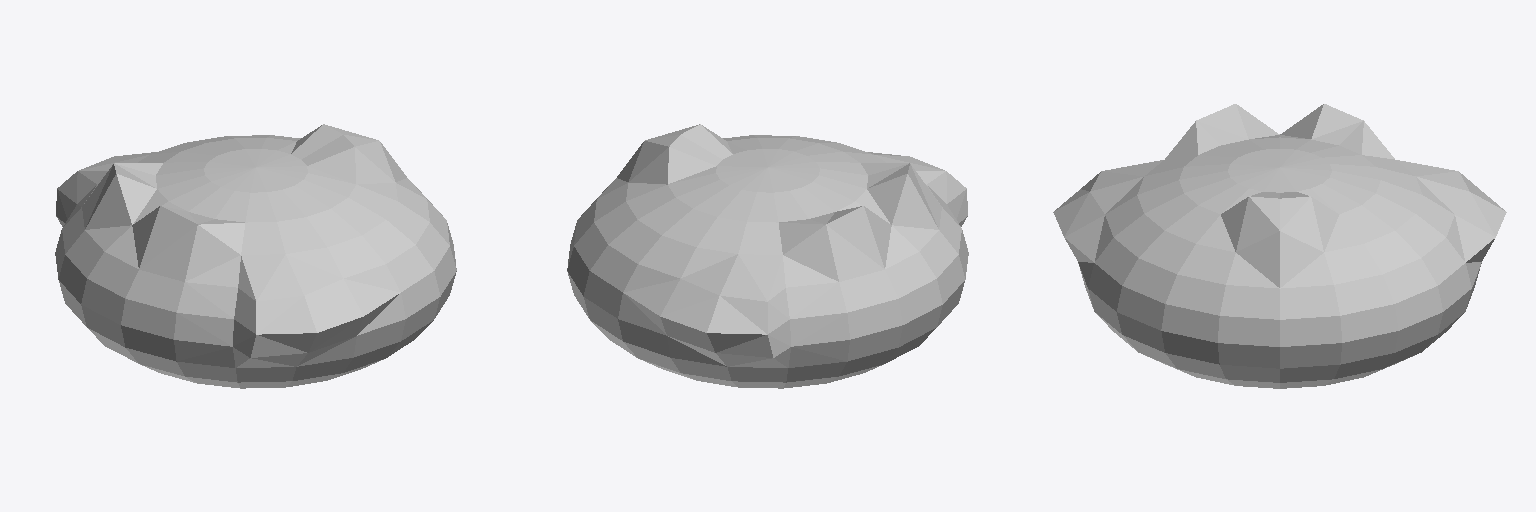
Rendered from derp.obj.
The picture shows the model from 3 angles: view 1: azimuth 30°, elevation 25°; view 2: azimuth 150°, elevation 25°; view 3: azimuth 270°, elevation 25°; orthographic projection.
Visible parts, largest first — view 1: Sphere; view 2: Sphere; view 3: Sphere.
Boxes of the visible parts, <box> form: Sphere: <box>55,124,456,388</box>; Sphere: <box>567,124,968,388</box>; Sphere: <box>1053,104,1506,388</box>.
Size of the model in its own units: 2 by 1.09 by 2.24.